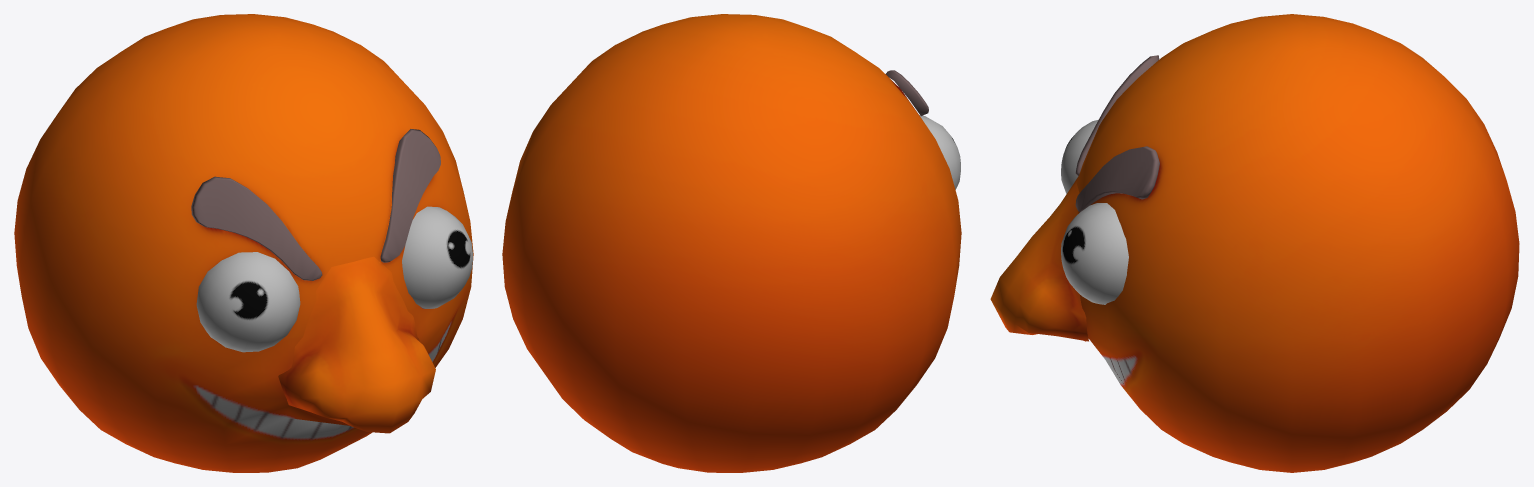
Rendered from PRO_Ball.glb.
3 views of the same model, side by side, from view 1: azimuth 30°, elevation 25°; view 2: azimuth 150°, elevation 25°; view 3: azimuth 270°, elevation 25° (orthographic).
Parts seen in each view (by area): view 1: PRO_Ball; view 2: PRO_Ball; view 3: PRO_Ball.
Part boxes in pixels (box(x1,y1,x2,y2)): PRO_Ball: box(14, 14, 473, 472); PRO_Ball: box(502, 14, 961, 472); PRO_Ball: box(990, 14, 1519, 472).
Size of the model in its own units: 0.9857 by 1 by 1.16.
Materials: 1 (1 with a texture image).
